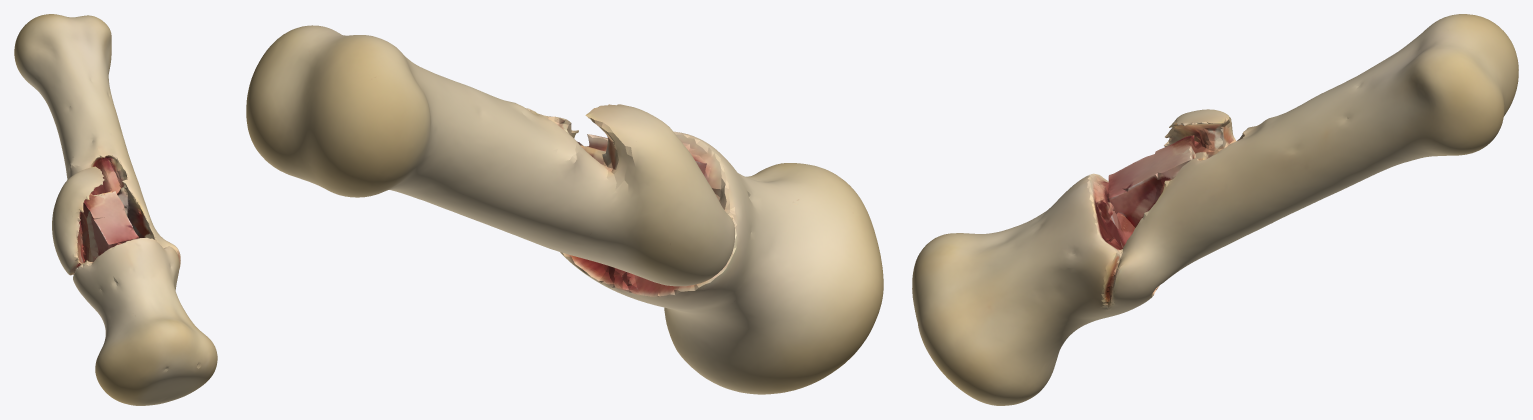
Rendered from fractured_femur.glb.
The picture shows the model from 3 angles, left to right: view 1: azimuth 30°, elevation 25°; view 2: azimuth 150°, elevation 25°; view 3: azimuth 270°, elevation 25°; orthographic projection. The views are drawn at different scales.
Visible parts, largest first — view 1: model; view 2: model; view 3: model.
Part boxes in pixels (x1,y1,x2,y2): model: [14, 14, 217, 405]; model: [246, 25, 883, 394]; model: [912, 14, 1518, 405].
Size of the model in its own units: 0.8884 by 1.43 by 1.9.
1 material, 1 textured.
